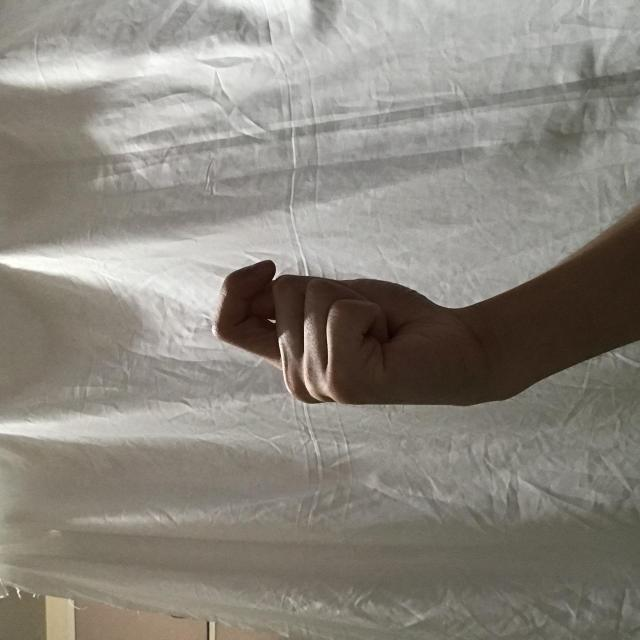T: (231, 212, 380, 501)
